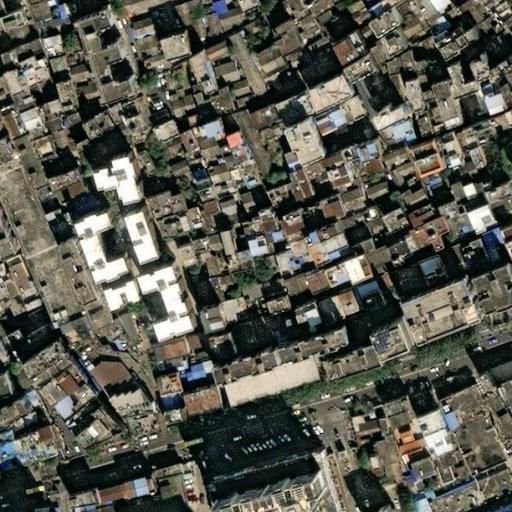building: (203, 450, 336, 512), (211, 325, 346, 386), (437, 389, 505, 480), (27, 349, 103, 430), (217, 355, 318, 413), (22, 246, 87, 332), (0, 151, 43, 270), (215, 468, 324, 512), (72, 11, 126, 98), (132, 262, 192, 339), (74, 202, 128, 277), (423, 470, 512, 512), (414, 298, 487, 345), (431, 1, 488, 60), (58, 241, 105, 312), (405, 277, 473, 323), (13, 138, 58, 204), (476, 372, 512, 442), (326, 347, 387, 388), (415, 412, 457, 468), (222, 33, 255, 102), (333, 31, 379, 80), (97, 147, 141, 196), (281, 117, 324, 164), (60, 62, 96, 115), (75, 417, 119, 459), (303, 69, 350, 108), (477, 274, 512, 326), (126, 479, 181, 512), (309, 1, 355, 40), (107, 386, 153, 424), (127, 204, 160, 255), (306, 229, 349, 268), (179, 382, 221, 421), (325, 95, 369, 132), (0, 406, 42, 443), (437, 84, 468, 132), (370, 413, 396, 470), (80, 361, 122, 396), (245, 316, 282, 354), (159, 212, 201, 245), (385, 326, 423, 362), (407, 142, 443, 179), (270, 26, 305, 64), (40, 210, 74, 248), (1, 261, 34, 298), (9, 483, 51, 512), (276, 53, 314, 85), (276, 93, 314, 125), (292, 18, 323, 57), (18, 318, 53, 352), (418, 255, 452, 290), (119, 7, 157, 38), (375, 12, 411, 44), (90, 124, 127, 154), (85, 109, 124, 137), (293, 305, 326, 338), (206, 197, 239, 230), (394, 265, 427, 298), (192, 57, 219, 97), (370, 103, 406, 133), (377, 399, 411, 430), (249, 44, 283, 75), (326, 158, 357, 192), (452, 72, 486, 103), (15, 58, 45, 93), (441, 137, 467, 177), (478, 228, 506, 265), (417, 178, 453, 206), (2, 446, 33, 478), (50, 166, 84, 195), (381, 158, 410, 192), (476, 33, 507, 64), (403, 227, 433, 259), (85, 305, 113, 339), (282, 241, 309, 276), (55, 84, 79, 123), (154, 193, 184, 224), (425, 220, 455, 251), (283, 171, 312, 203), (207, 6, 241, 33), (412, 101, 436, 139), (18, 105, 44, 140), (150, 339, 185, 365), (230, 322, 255, 358), (225, 133, 250, 169), (281, 212, 309, 244), (386, 241, 414, 273), (41, 149, 71, 178), (255, 67, 285, 96), (347, 259, 377, 288), (392, 438, 423, 466), (317, 298, 345, 329), (206, 311, 233, 343), (461, 239, 488, 271), (33, 129, 62, 158), (337, 293, 366, 322), (467, 206, 496, 235), (186, 11, 214, 41), (166, 37, 196, 65), (231, 189, 261, 217), (447, 212, 475, 242), (462, 181, 489, 212), (5, 112, 30, 145), (488, 112, 512, 146), (323, 266, 353, 293), (123, 480, 157, 503), (108, 313, 131, 347), (345, 146, 368, 180), (246, 105, 276, 131), (224, 252, 255, 277), (214, 337, 241, 365), (126, 30, 154, 57), (356, 173, 383, 201), (403, 392, 432, 418), (278, 276, 307, 302), (202, 274, 228, 303), (354, 67, 383, 93), (107, 283, 137, 308), (194, 177, 219, 207), (277, 146, 302, 176), (340, 315, 371, 339), (363, 284, 387, 315), (185, 276, 208, 308), (301, 270, 328, 297), (71, 137, 98, 164), (354, 211, 381, 238), (409, 203, 436, 230), (13, 289, 41, 315), (2, 330, 28, 358), (320, 196, 346, 224), (336, 217, 362, 245), (382, 209, 410, 235), (31, 12, 60, 37), (65, 415, 94, 440), (491, 67, 512, 101), (187, 85, 209, 117), (337, 184, 364, 210), (475, 123, 499, 152), (261, 212, 282, 245), (180, 151, 201, 184), (34, 103, 57, 133), (6, 74, 29, 104), (160, 96, 182, 127), (256, 278, 282, 304), (33, 34, 58, 61), (233, 164, 258, 191), (148, 121, 175, 146), (376, 138, 401, 165), (214, 145, 237, 174), (468, 135, 488, 168), (368, 248, 393, 274), (152, 375, 180, 398), (20, 429, 50, 450), (203, 119, 228, 144), (486, 362, 512, 386), (192, 205, 214, 233), (209, 59, 234, 83), (27, 443, 54, 465), (222, 298, 246, 322), (6, 13, 31, 36), (66, 183, 91, 206), (14, 41, 39, 64), (164, 408, 189, 431), (131, 118, 152, 145), (189, 359, 209, 387), (243, 219, 266, 243), (247, 238, 271, 261), (187, 126, 210, 150), (399, 189, 423, 212), (197, 257, 222, 279), (269, 301, 295, 322), (75, 494, 105, 512), (498, 382, 512, 420), (410, 461, 433, 484), (403, 490, 427, 512), (159, 138, 181, 162), (307, 49, 331, 71), (349, 234, 374, 255), (0, 372, 19, 399), (218, 232, 237, 259), (58, 120, 81, 142), (375, 268, 398, 290), (358, 144, 381, 166), (237, 285, 261, 306), (481, 97, 505, 118), (187, 237, 206, 263), (453, 185, 470, 214), (219, 76, 241, 98), (364, 84, 386, 106), (40, 55, 61, 78), (158, 158, 181, 179), (392, 128, 415, 149), (180, 335, 204, 355), (367, 497, 399, 512), (198, 39, 223, 58), (395, 58, 414, 83), (405, 79, 423, 105), (51, 191, 72, 213), (172, 363, 194, 384), (300, 207, 322, 228), (190, 145, 212, 166), (314, 116, 335, 138), (153, 394, 176, 414), (274, 259, 293, 283), (383, 78, 402, 102), (223, 170, 241, 195), (172, 92, 190, 117), (255, 122, 280, 140), (23, 1, 44, 22), (103, 485, 126, 504), (164, 3, 183, 26), (221, 114, 240, 137), (135, 50, 158, 68), (270, 134, 290, 154), (439, 203, 462, 220), (421, 170, 445, 186), (203, 93, 222, 113), (2, 311, 23, 329), (175, 134, 193, 155), (271, 182, 288, 204), (381, 62, 400, 81), (256, 8, 277, 25), (208, 171, 225, 192), (178, 248, 194, 270), (224, 92, 245, 108), (477, 65, 493, 86), (38, 199, 55, 218), (262, 187, 278, 207), (24, 310, 45, 325), (364, 160, 383, 176), (141, 107, 158, 124), (46, 98, 62, 115), (200, 234, 216, 251), (149, 74, 162, 94), (180, 112, 197, 127), (393, 430, 408, 445), (505, 109, 512, 131), (0, 267, 6, 285)
